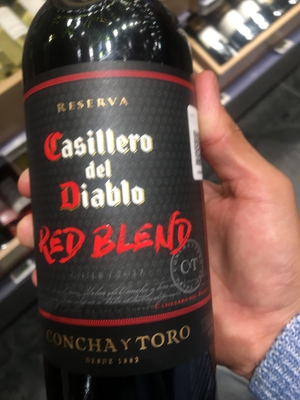casillero del diablo red blend: (19, 10, 228, 394)
